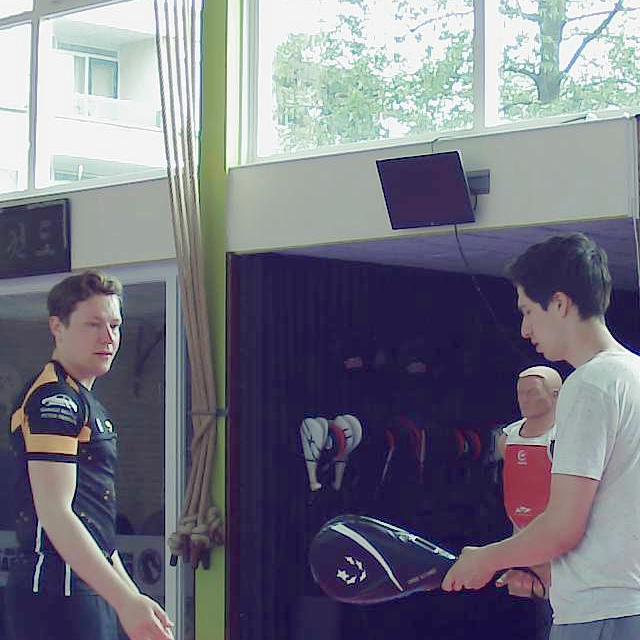paddle: (309, 514, 480, 607)
